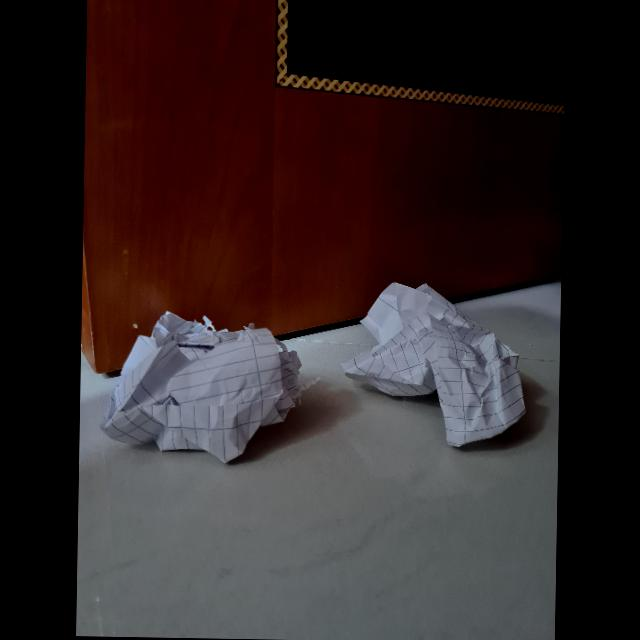trash: (347, 281, 527, 455), (104, 307, 296, 459)
